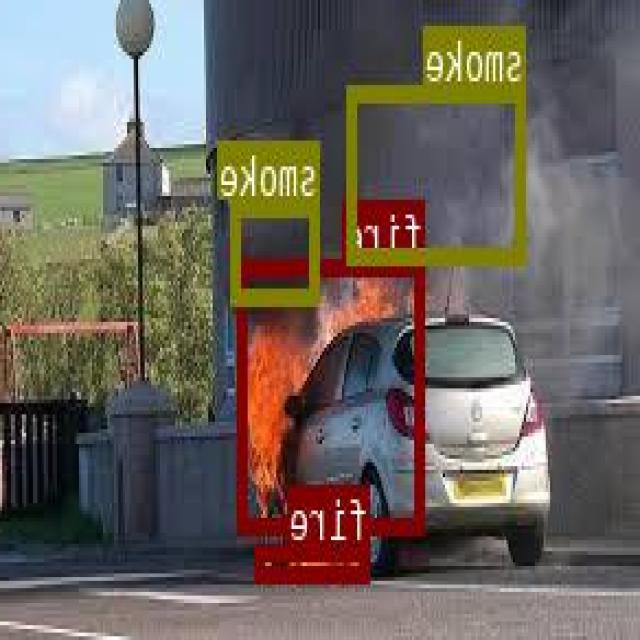fire: (241, 257, 426, 531), (257, 541, 372, 580)
smoke: (349, 83, 526, 260), (234, 198, 321, 301)
